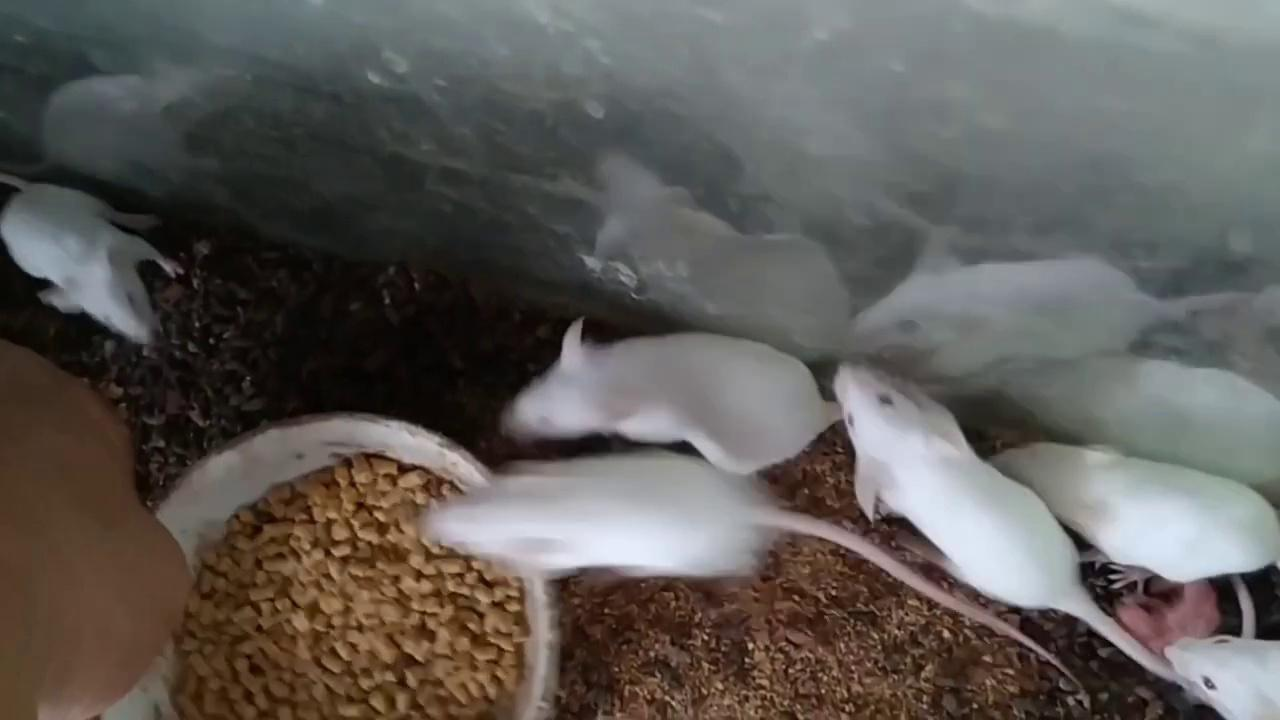rat: (416, 449, 1082, 688), (834, 360, 1190, 687), (500, 320, 844, 471), (990, 439, 1280, 594), (0, 173, 184, 344), (1164, 634, 1280, 720)
